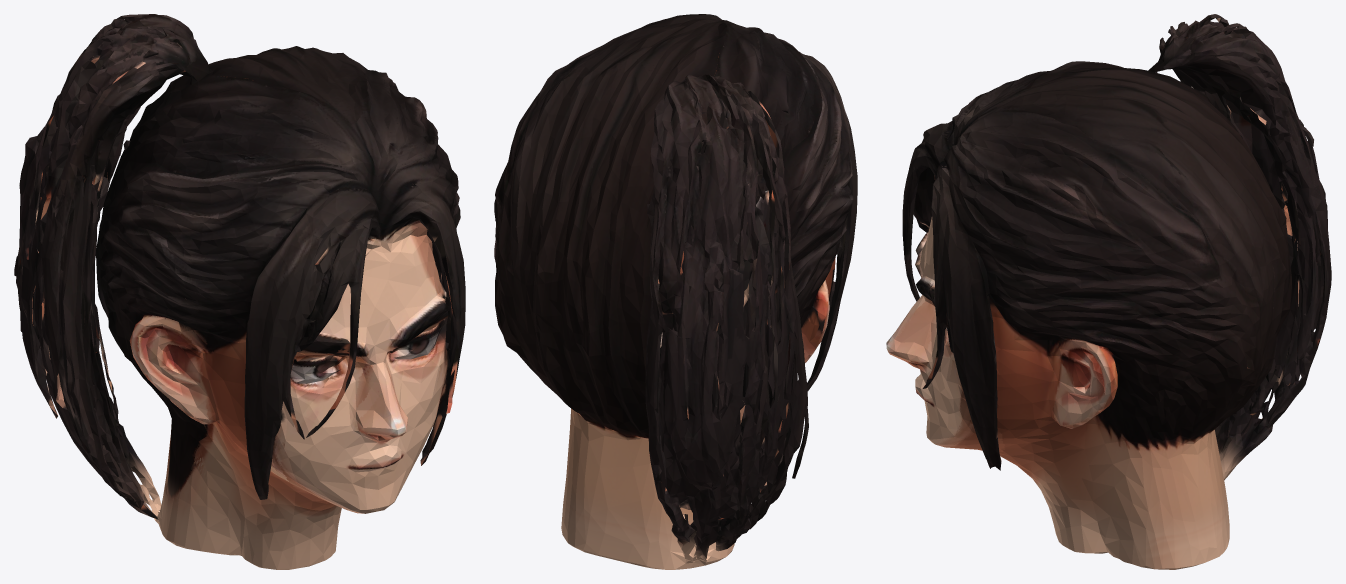
The model's file is side_ikomabard_repaired_atlas.glb.
The picture shows the model from 3 angles, left to right: view 1: azimuth 30°, elevation 25°; view 2: azimuth 150°, elevation 25°; view 3: azimuth 270°, elevation 25°; orthographic projection. The views are drawn at different scales.
Visible parts, largest first — view 1: temp_mesh.ply; view 2: temp_mesh.ply; view 3: temp_mesh.ply.
Boxes of the visible parts, left/top/right/bottom form: temp_mesh.ply: left=14, top=14, right=465, bottom=569; temp_mesh.ply: left=494, top=14, right=857, bottom=569; temp_mesh.ply: left=886, top=14, right=1331, bottom=569.
Bounding box in the file's own units: 1.12 × 1.62 × 1.37.
Materials: 1 (1 with a texture image).
